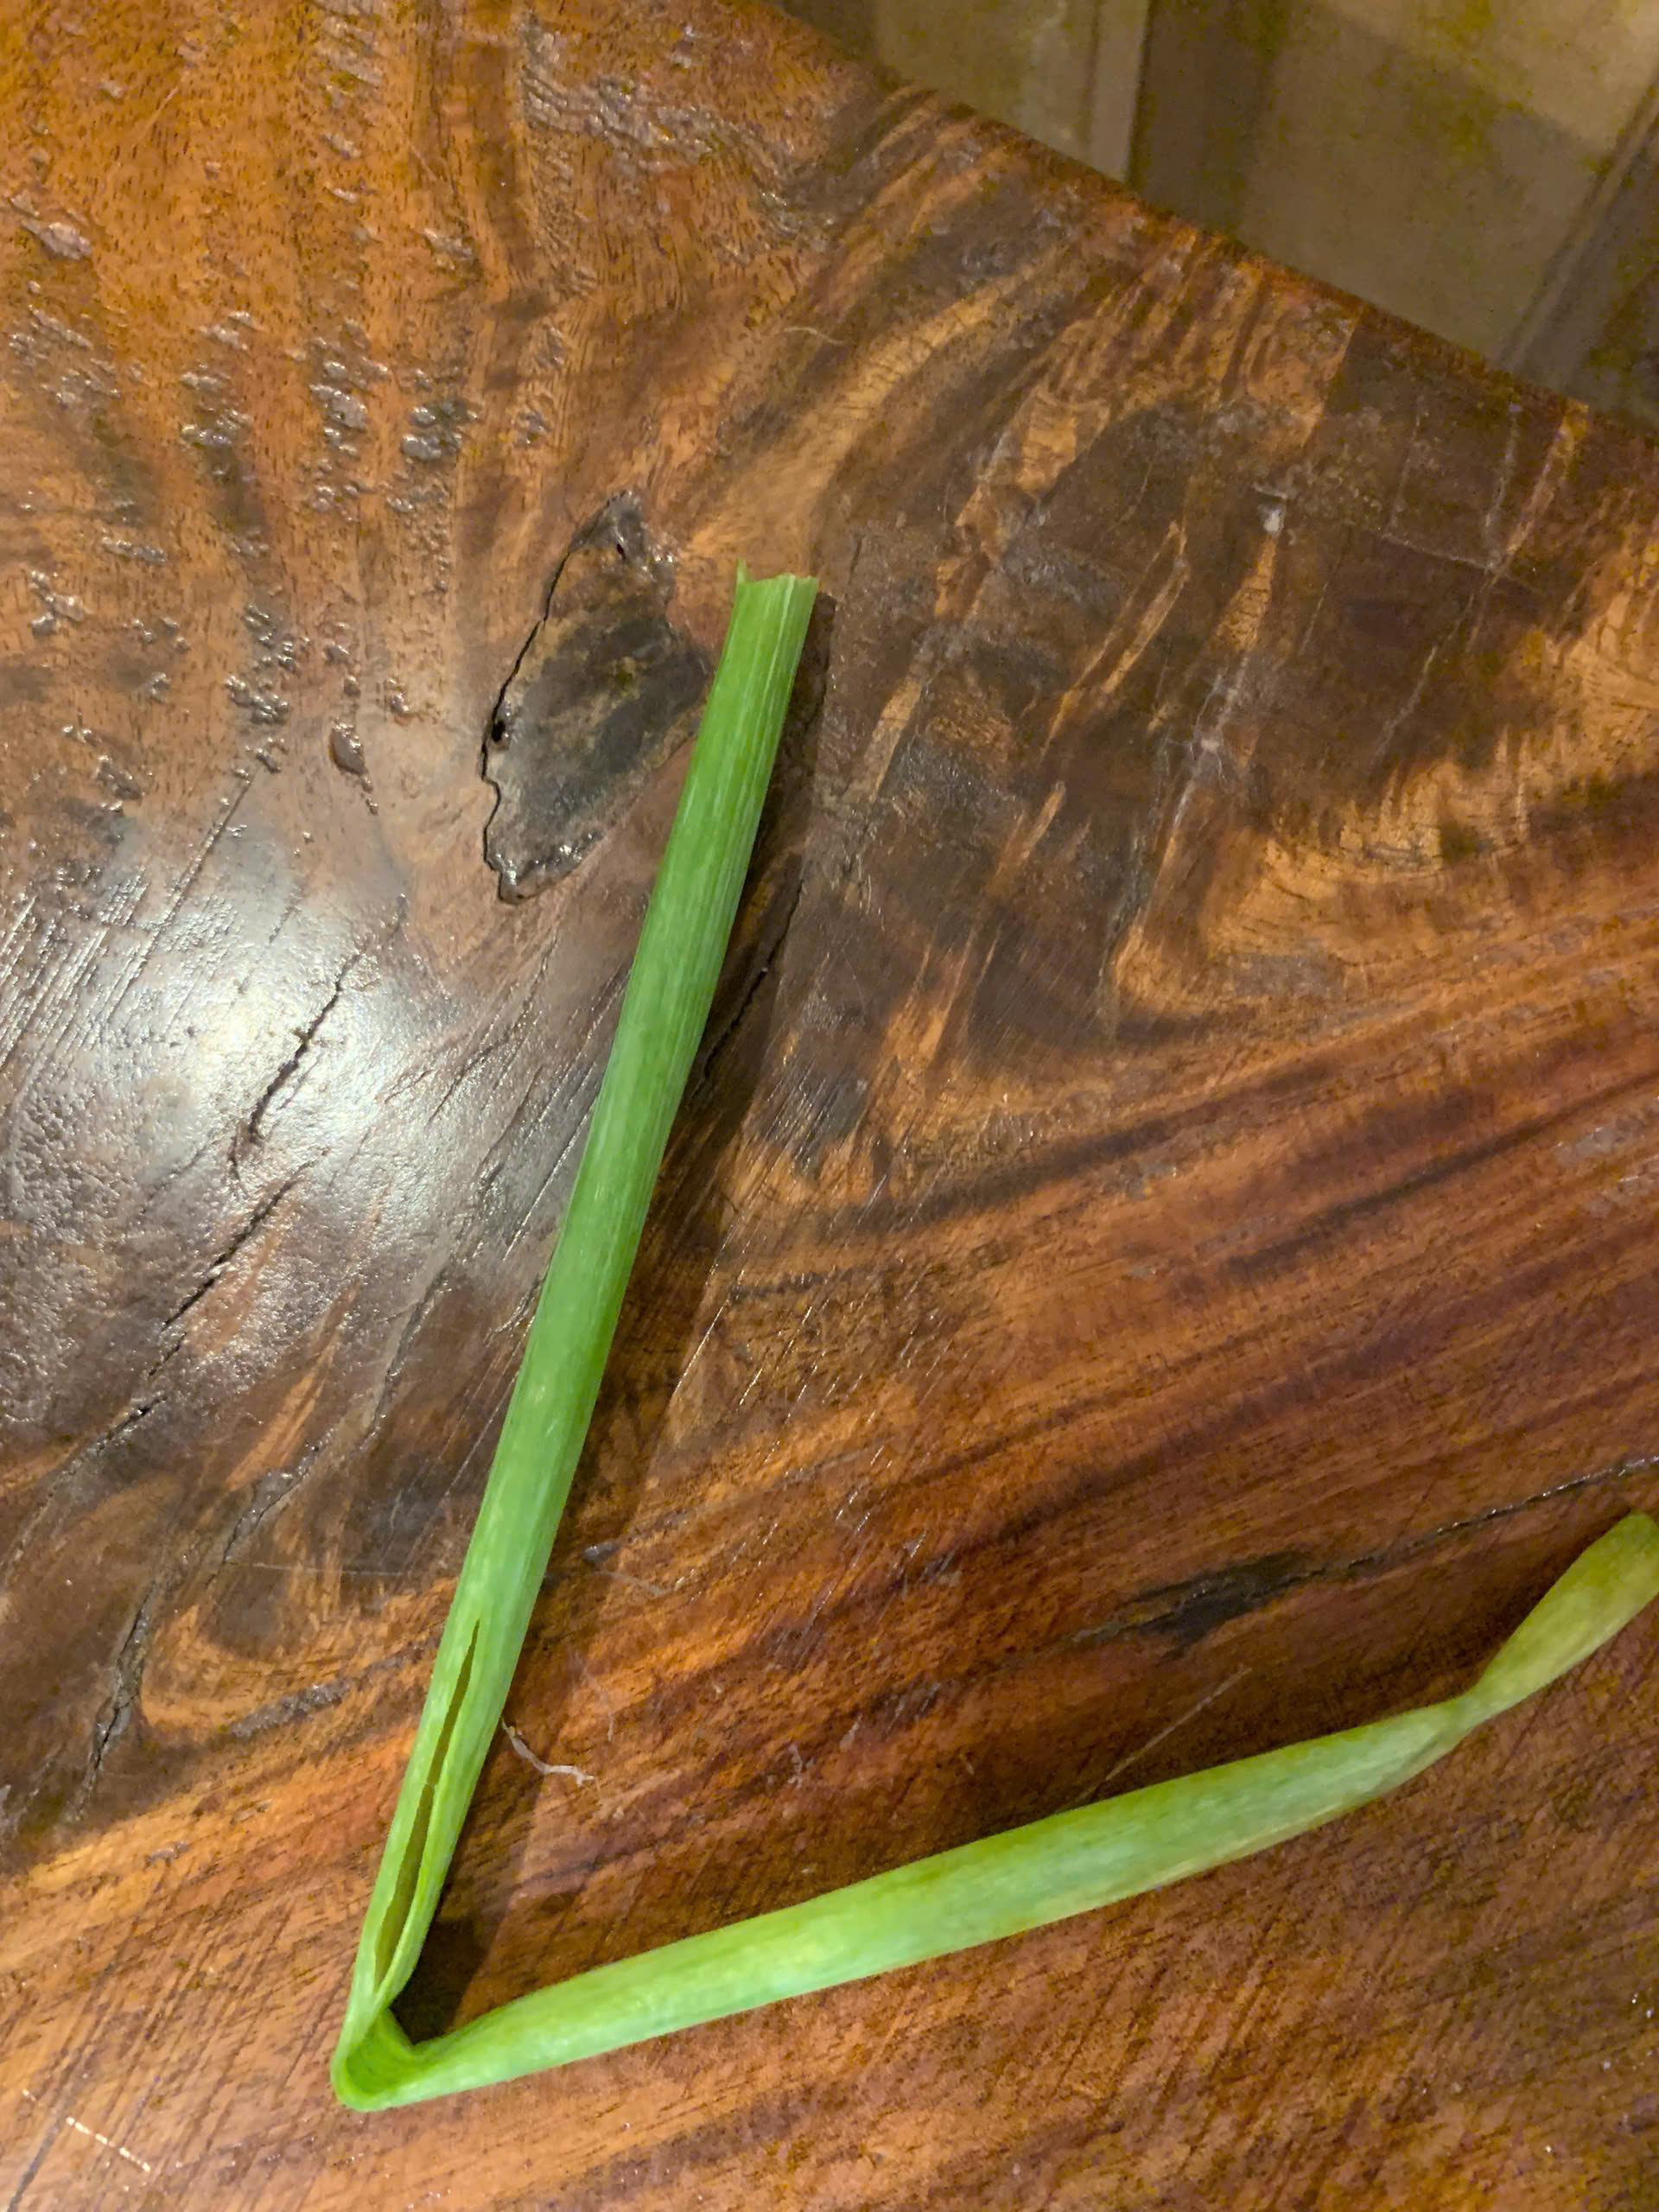Huu co: (337, 580, 1659, 2106)
